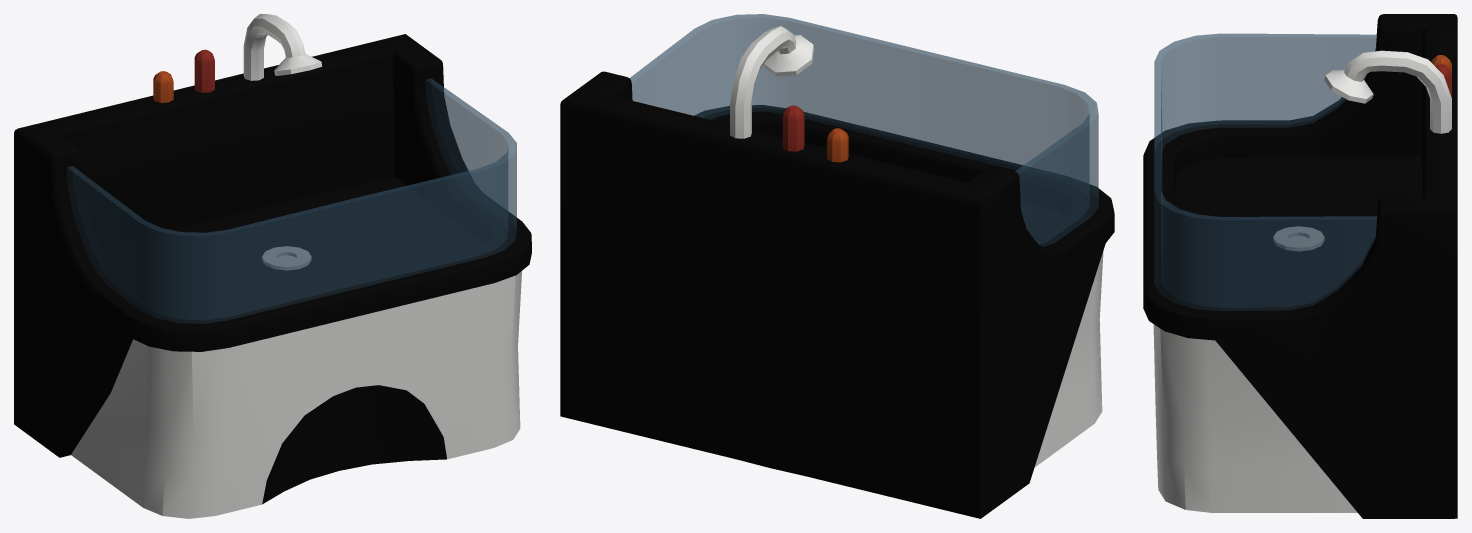
Rendered from SM_Props_Bathing_Counter.fbx.
3 views of the same model, side by side, from view 1: azimuth 30°, elevation 25°; view 2: azimuth 150°, elevation 25°; view 3: azimuth 270°, elevation 25° (orthographic). The views are drawn at different scales.
Parts seen in each view (by area): view 1: SM_Props_Bathing_Counter; view 2: SM_Props_Bathing_Counter; view 3: SM_Props_Bathing_Counter.
Part boxes in pixels (x1=…): SM_Props_Bathing_Counter: x1=14, y1=14, x2=531, y2=518; SM_Props_Bathing_Counter: x1=560, y1=14, x2=1114, y2=518; SM_Props_Bathing_Counter: x1=1143, y1=14, x2=1457, y2=518.
Size of the model in its own units: 1.79 by 1.62 by 1.2.
